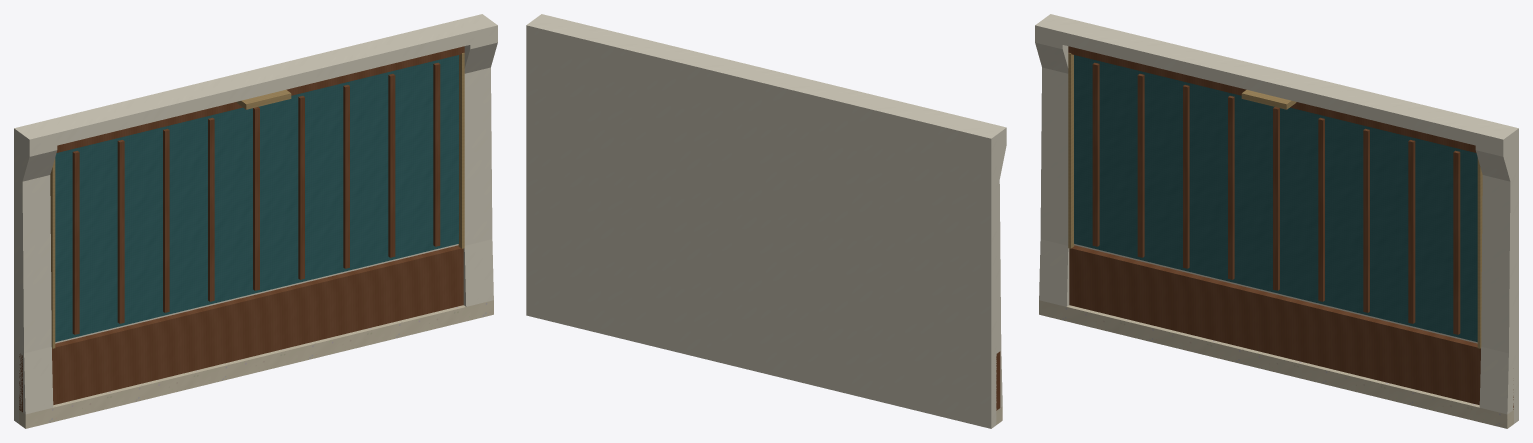
Rendered from AST-DIN-005_lower.glb.
The picture shows the model from 3 angles, left to right: view 1: azimuth 30°, elevation 25°; view 2: azimuth 150°, elevation 25°; view 3: azimuth 330°, elevation 25°; orthographic projection.
Parts seen in each view (by area): view 1: DIN_AcousticField, DIN_WalnutDado, DIN_UpperStoneReturn, DIN_SplayedReturn_0, DIN_StoneSkirting, DIN_SplayedReturn_1, DIN_BackdropSolid, DIN_UpperWalnutFrieze, DIN_AcousticRib_0, DIN_AcousticRib_8, DIN_AcousticRib_1, DIN_AcousticRib_7 (+8 smaller); view 2: DIN_BackdropSolid, DIN_UpperStoneReturn, DIN_SplayedReturn_0; view 3: DIN_AcousticField, DIN_WalnutDado, DIN_UpperStoneReturn, DIN_SplayedReturn_1, DIN_StoneSkirting, DIN_SplayedReturn_0, DIN_BackdropSolid, DIN_UpperWalnutFrieze, DIN_AcousticRib_0, DIN_AcousticRib_8, DIN_AcousticRib_1, DIN_AcousticRib_7 (+8 smaller).
Boxes of the visible parts, x1,y1,x2,y2 form: DIN_AcousticField: (55, 55, 458, 341); DIN_WalnutDado: (19, 245, 463, 412); DIN_UpperStoneReturn: (19, 18, 497, 151); DIN_SplayedReturn_0: (19, 125, 57, 414); DIN_StoneSkirting: (19, 300, 493, 428); DIN_SplayedReturn_1: (460, 17, 497, 306); DIN_BackdropSolid: (14, 14, 486, 423); DIN_UpperWalnutFrieze: (56, 46, 464, 152); DIN_AcousticRib_0: (72, 150, 79, 334); DIN_AcousticRib_8: (433, 62, 440, 246); DIN_AcousticRib_1: (117, 140, 124, 323); DIN_AcousticRib_7: (388, 74, 395, 257); DIN_BackdropSolid: (526, 21, 996, 428); DIN_UpperStoneReturn: (532, 14, 1006, 146); DIN_SplayedReturn_0: (969, 120, 1006, 409); DIN_AcousticField: (1074, 55, 1477, 341); DIN_WalnutDado: (1069, 245, 1513, 409); DIN_UpperStoneReturn: (1035, 18, 1513, 151); DIN_SplayedReturn_1: (1475, 125, 1513, 414); DIN_StoneSkirting: (1039, 300, 1513, 428); DIN_SplayedReturn_0: (1035, 17, 1072, 306); DIN_BackdropSolid: (1046, 14, 1518, 423); DIN_UpperWalnutFrieze: (1068, 46, 1476, 152); DIN_AcousticRib_0: (1092, 62, 1099, 246); DIN_AcousticRib_8: (1453, 150, 1460, 334); DIN_AcousticRib_1: (1137, 74, 1144, 257); DIN_AcousticRib_7: (1408, 140, 1415, 323).
Bounding box in the file's own units: 5.4 × 3.22 × 0.41.
6 materials, 5 textured.
